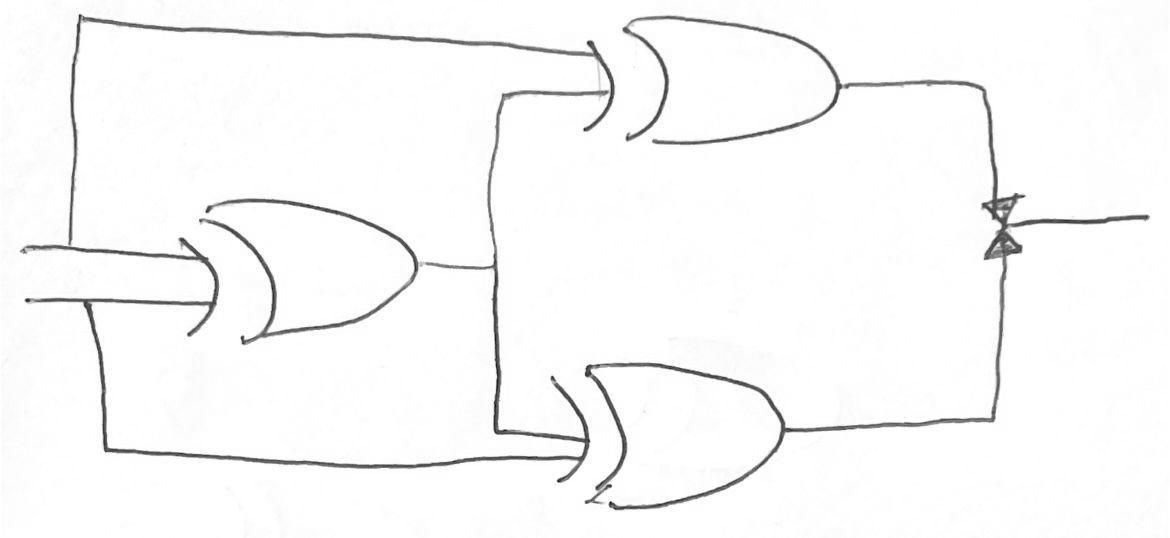XOR: (147, 178, 445, 375), (559, 4, 850, 183), (525, 348, 805, 519)
